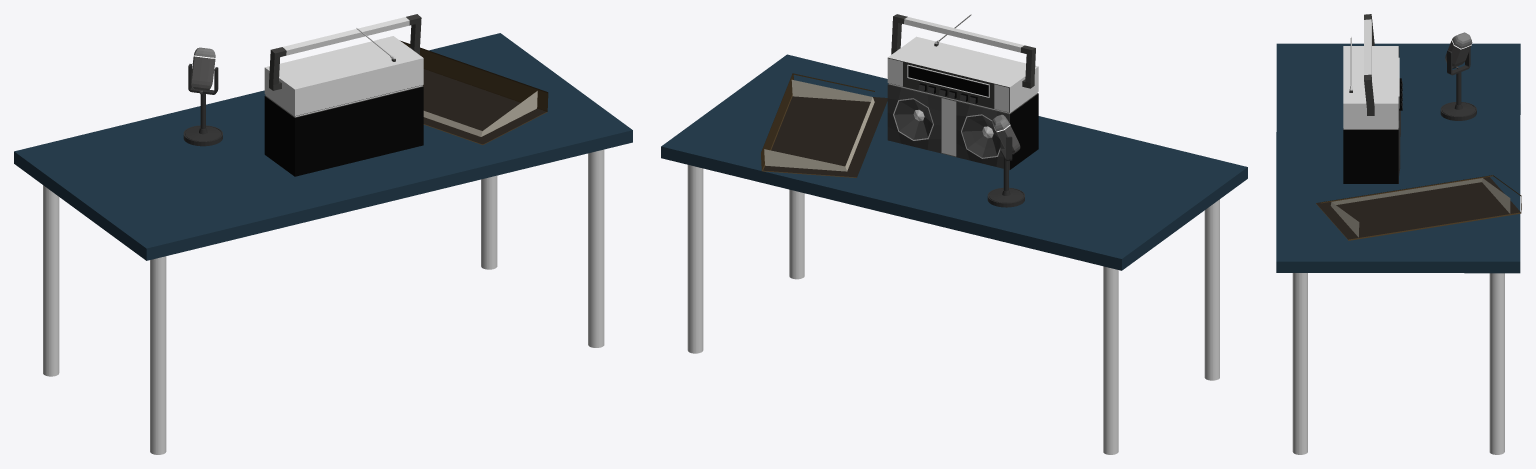
Rendered from 3d_radio.glb.
3 views of the same model, side by side, from view 1: azimuth 30°, elevation 25°; view 2: azimuth 150°, elevation 25°; view 3: azimuth 270°, elevation 25° (orthographic). The views are drawn at different scales.
Visible parts, largest first — view 1: Table, Radio, Plane, Microphone; view 2: Table, Radio, Plane, Microphone; view 3: Table, Radio, Plane, Microphone.
Boxes of the visible parts, left/top/right/bottom form: Table: left=14, top=33, right=632, bottom=454; Radio: left=264, top=14, right=423, bottom=176; Plane: left=400, top=40, right=548, bottom=144; Microphone: left=183, top=47, right=222, bottom=146; Table: left=661, top=54, right=1247, bottom=454; Radio: left=887, top=14, right=1038, bottom=170; Plane: left=761, top=73, right=887, bottom=177; Microphone: left=987, top=114, right=1024, bottom=207; Table: left=1276, top=43, right=1520, bottom=454; Radio: left=1343, top=14, right=1402, bottom=183; Plane: left=1316, top=175, right=1521, bottom=240; Microphone: left=1440, top=32, right=1476, bottom=120.
Bounding box in the file's own units: 10.41 × 7.12 × 4.95.
